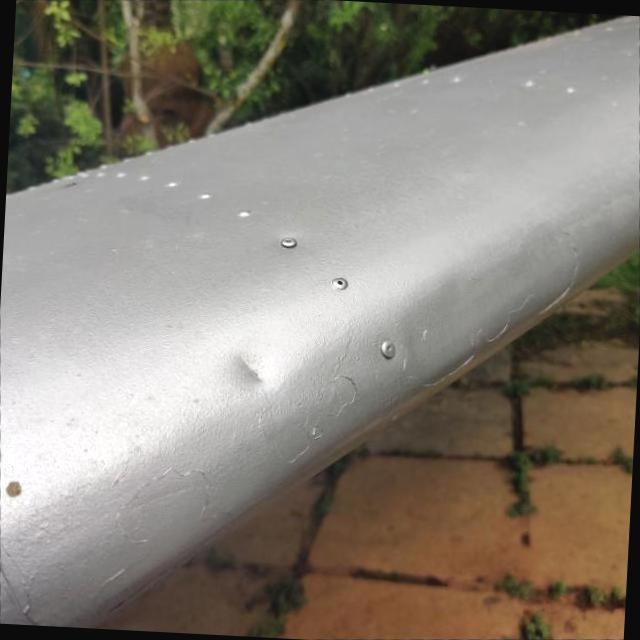dent: (217, 342, 278, 397)
